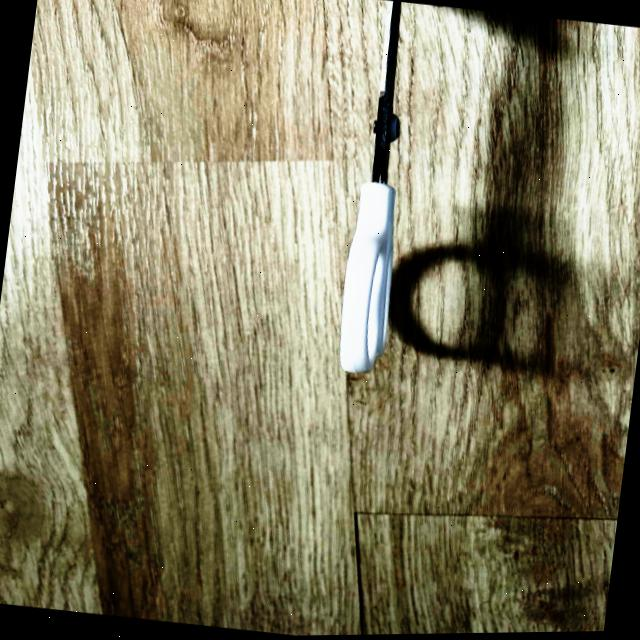Scissors: (340, 2, 401, 375)
